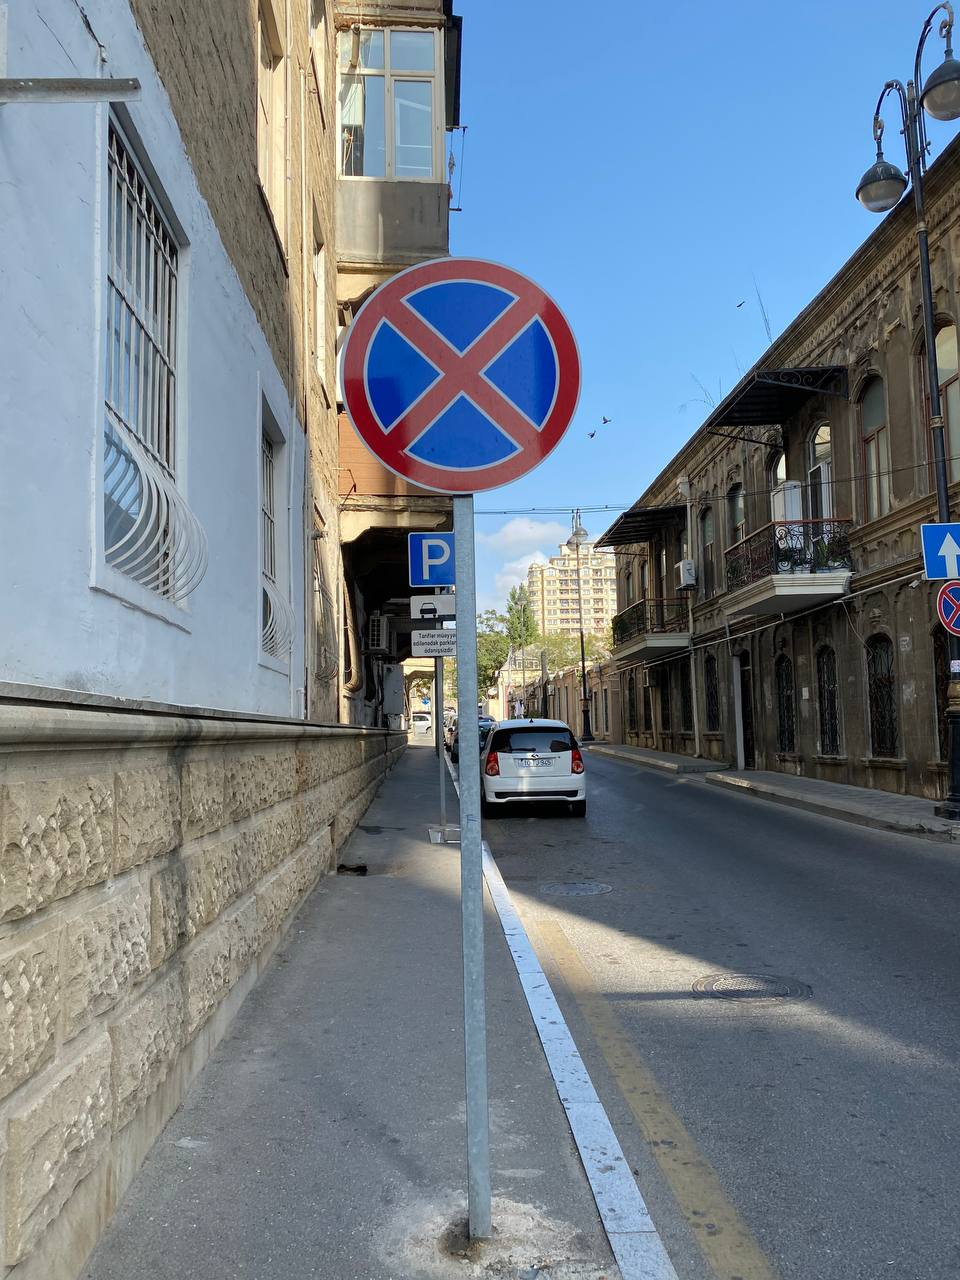No Parking: (341, 256, 582, 495)
Parking-Sign: (407, 531, 459, 586)
